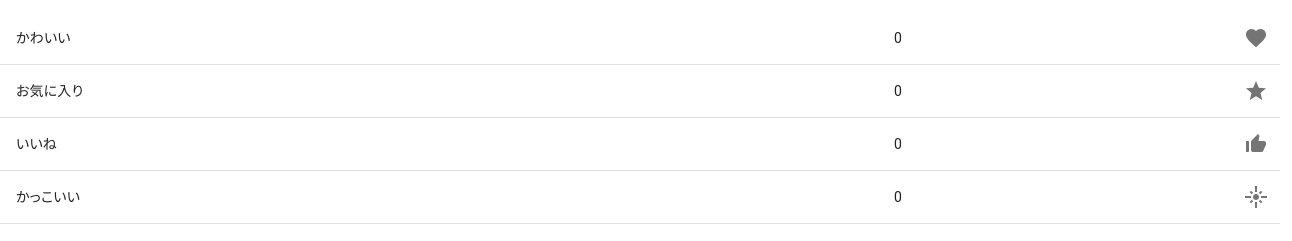
Test: Rendering SizeTable › Post failure › エラーメッセージが表示される
Click the button without text in the row of "かわいい" at (1256, 38), box [1232,14,1280,62]
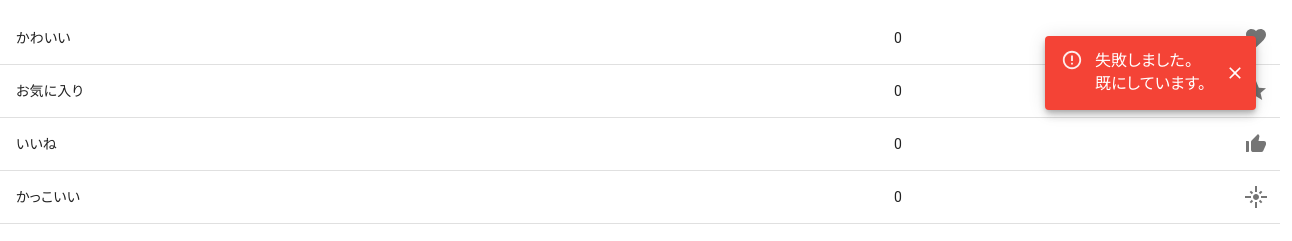
expect the text "失敗しました。既にしています。" is shown: met, box [1095,42,1206,104]
